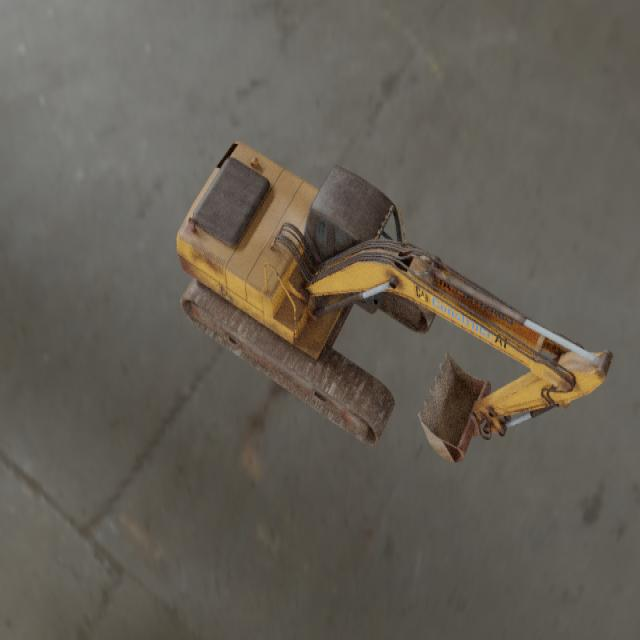excavator: (176, 140, 613, 463)
